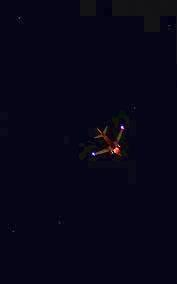Plane: (66, 101, 141, 169)
